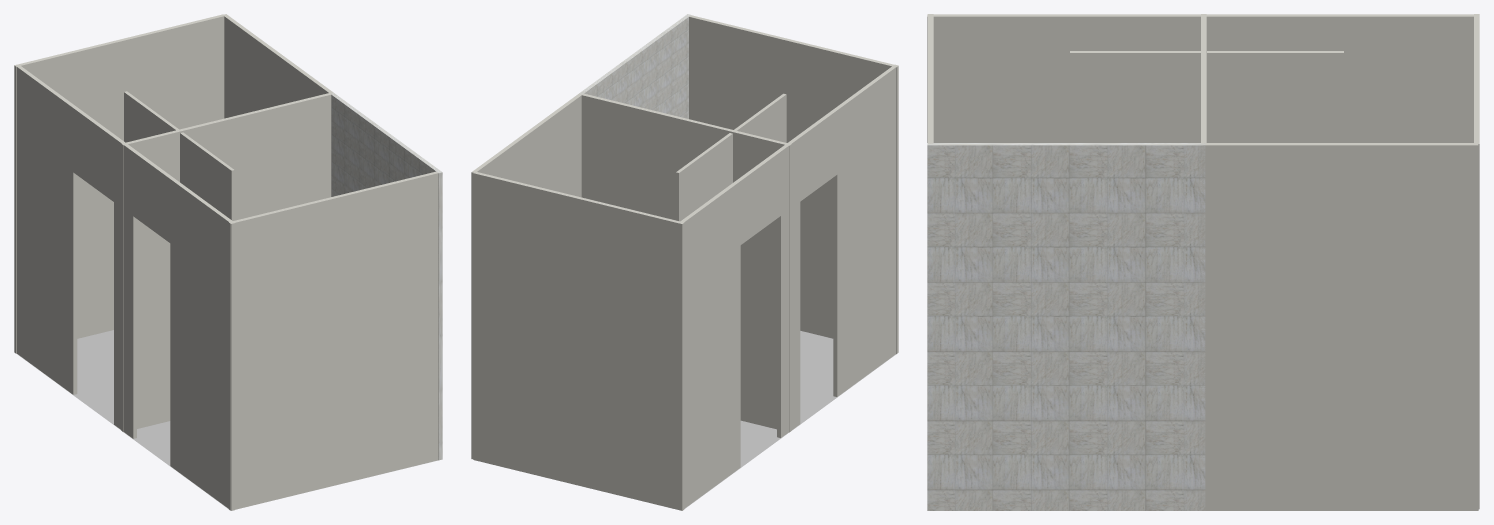
Rendered from banheiro_o_verdadeiro.fbx.
3 renders of one model, left to right at view 1: azimuth 30°, elevation 25°; view 2: azimuth 150°, elevation 25°; view 3: azimuth 270°, elevation 25°, orthographic. The views are drawn at different scales.
Parts seen in each view (by area): view 1: polySurface34; view 2: polySurface34; view 3: polySurface34.
Part boxes in pixels (x1,y1,x2,y2): polySurface34: (14,14,442,510); polySurface34: (471,14,898,510); polySurface34: (927,14,1479,510).
Bounding box in the file's own units: 616 × 803 × 1093.
